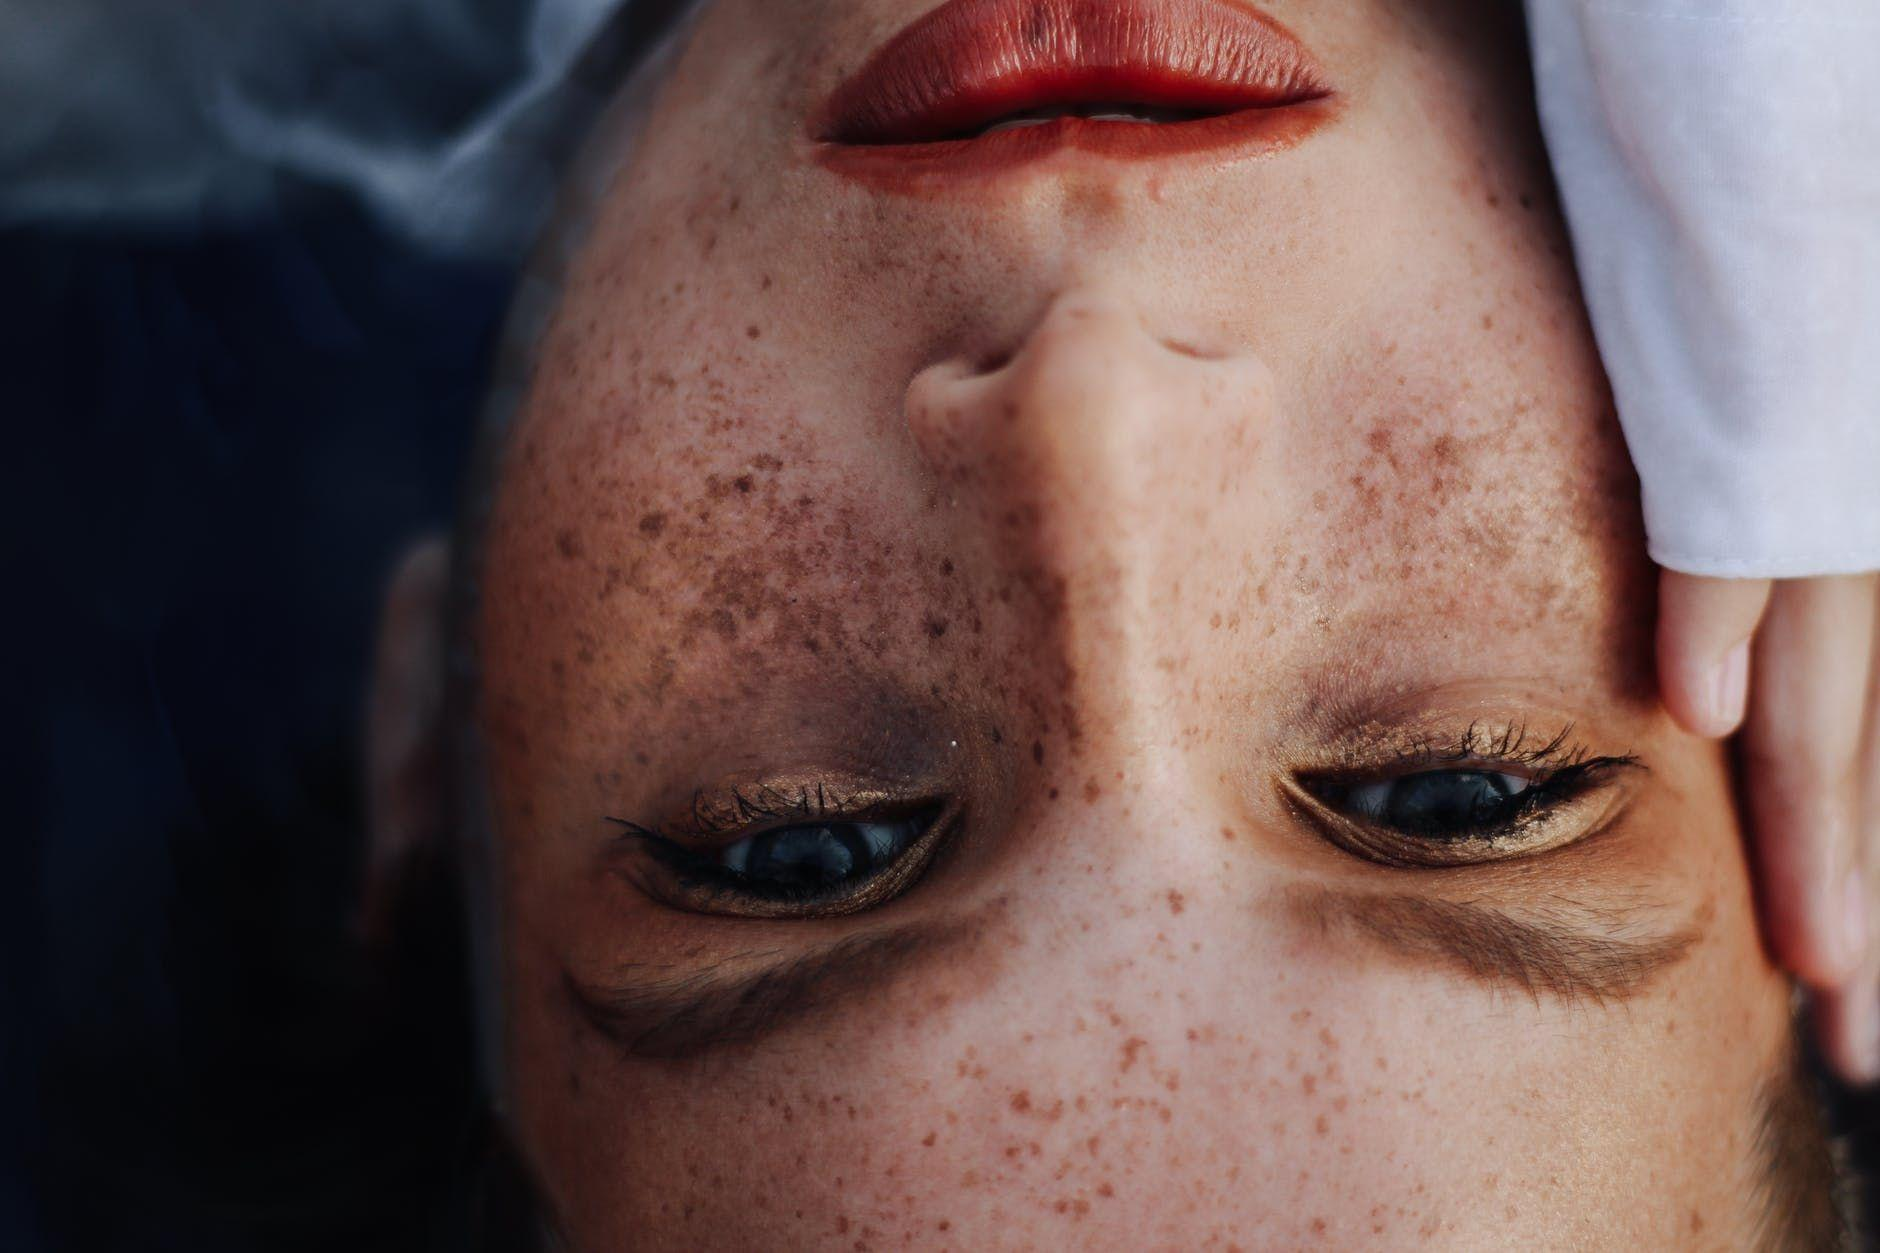Dark-Spots: (512, 178, 1219, 984), (502, 1001, 1517, 1253), (1234, 262, 1641, 729)
